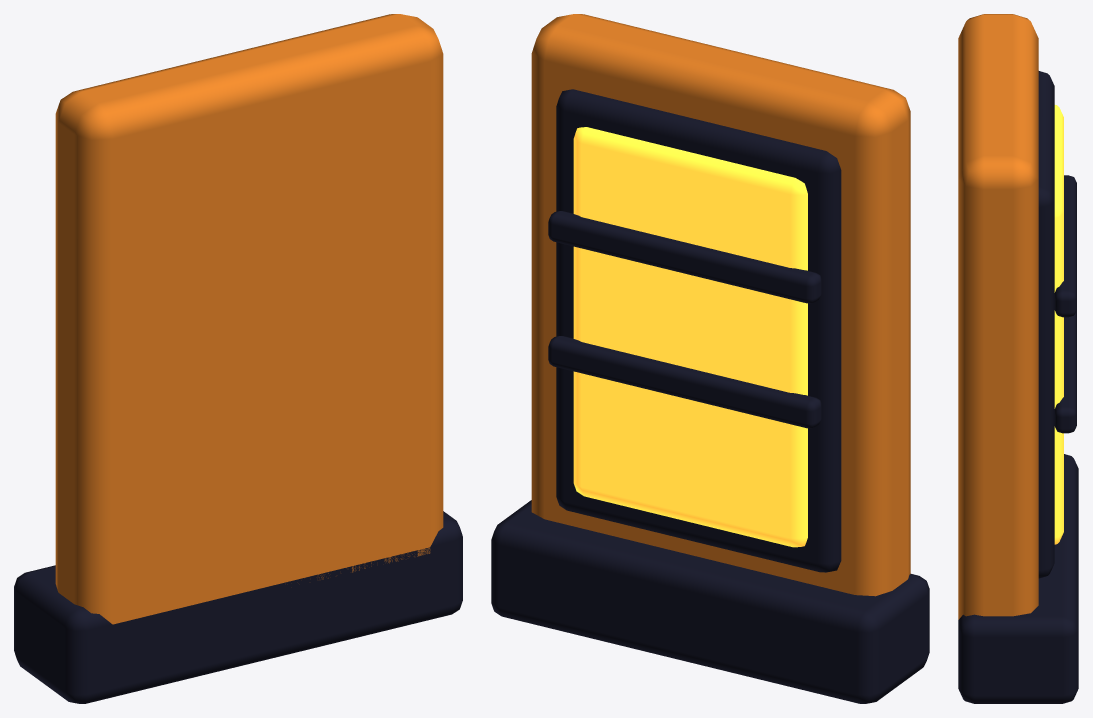
File: prop.props_workrooms.wall_lamp_amber.glb
3 renders of one model, left to right at view 1: azimuth 30°, elevation 25°; view 2: azimuth 150°, elevation 25°; view 3: azimuth 270°, elevation 25°, orthographic. The views are drawn at different scales.
Parts seen in each view (by area): view 1: prop.props_workrooms.wall_lamp_amber; view 2: prop.props_workrooms.wall_lamp_amber; view 3: prop.props_workrooms.wall_lamp_amber.
Boxes of the visible parts, x1,y1,x2,y2 form: prop.props_workrooms.wall_lamp_amber: (14, 14, 462, 703); prop.props_workrooms.wall_lamp_amber: (491, 14, 929, 703); prop.props_workrooms.wall_lamp_amber: (958, 14, 1078, 703).
Bounding box in the file's own units: 0.26 × 0.37 × 0.075.
